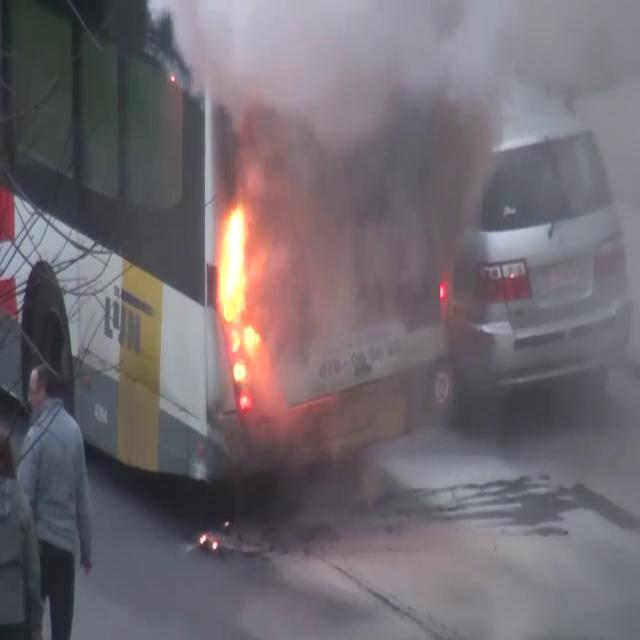Fire: (213, 187, 267, 389)
Smoke: (232, 0, 640, 425)
